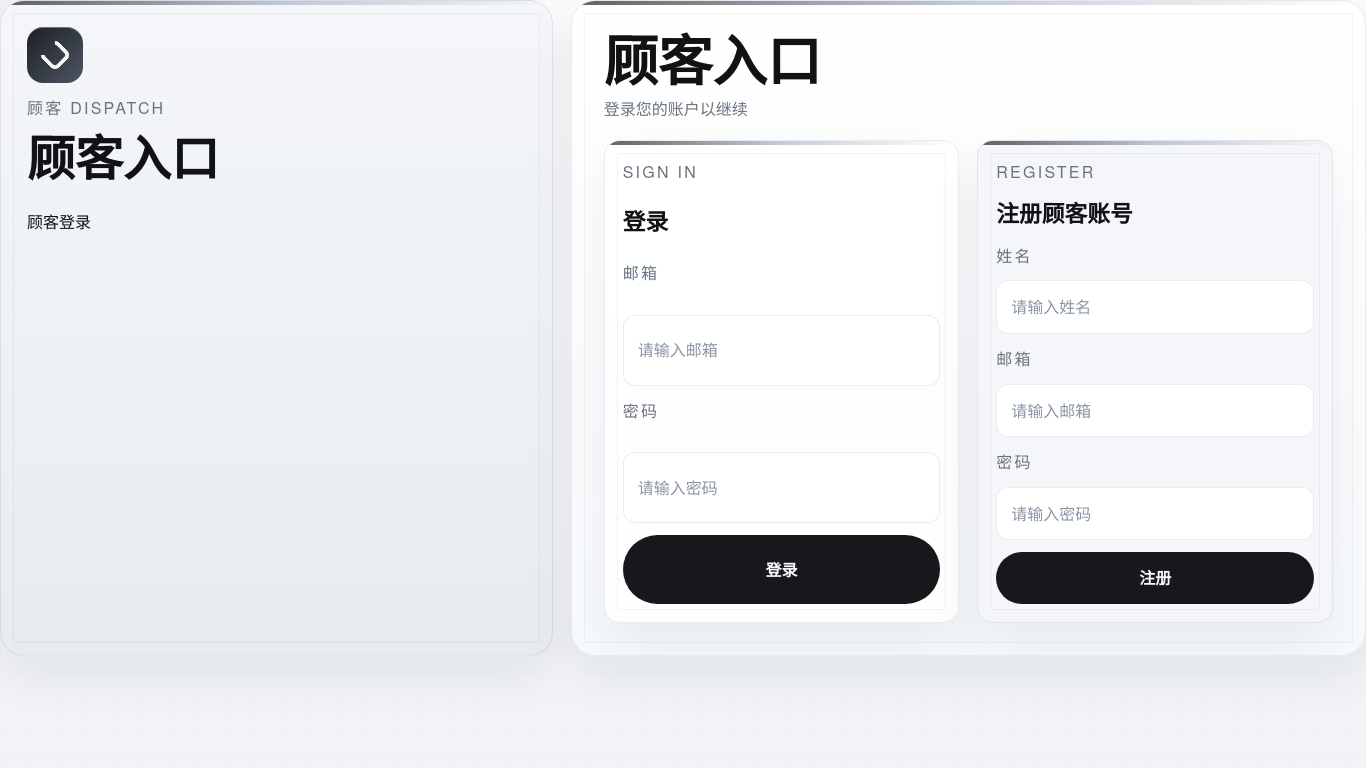
Test: RoleSession › rejects login when the returned role does not match the requested role
The image size is (1366, 768).
Type "admin@example.com" into the field with placeholder "请输入邮箱" below "Sign In" at (782, 350), box [623,315,940,386]
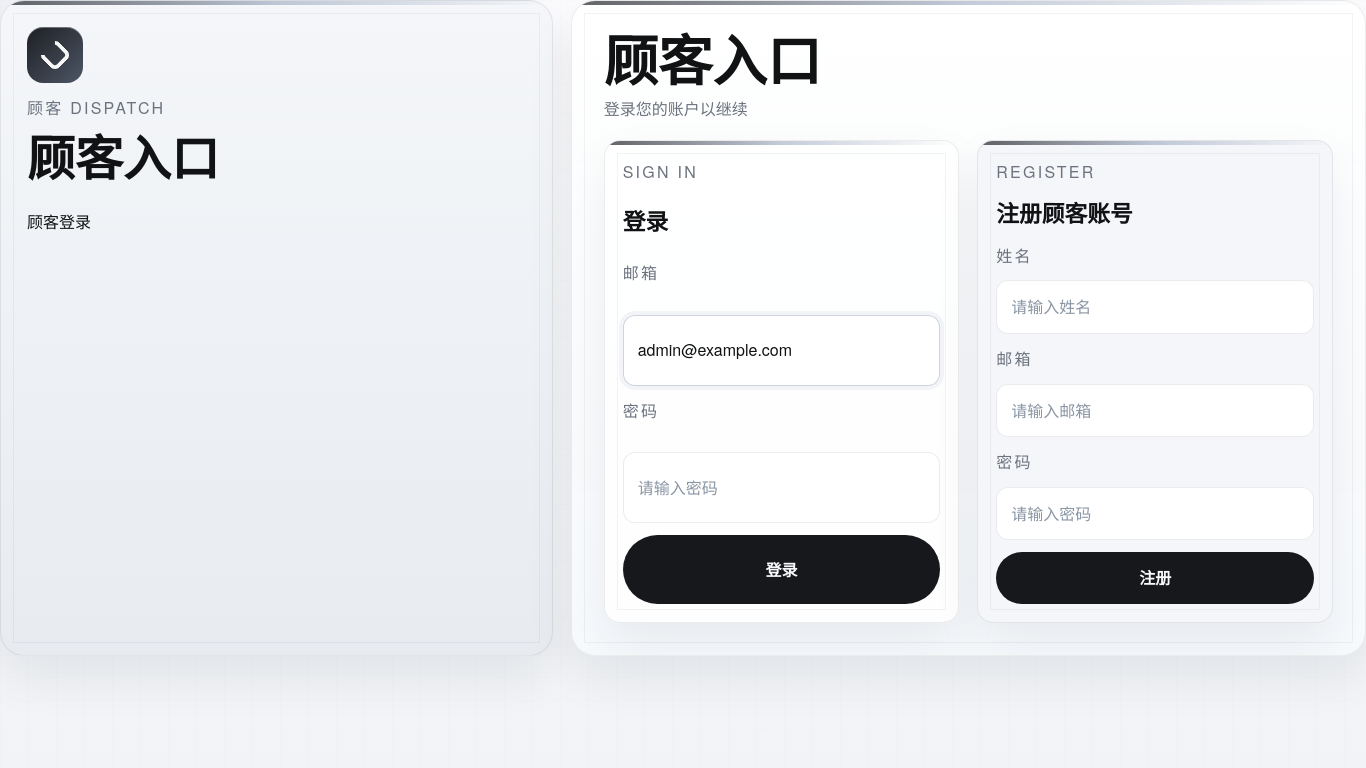
Type "secret123" into the password field with placeholder "请输入密码" below "Sign In" at (782, 488), box [623,452,940,523]
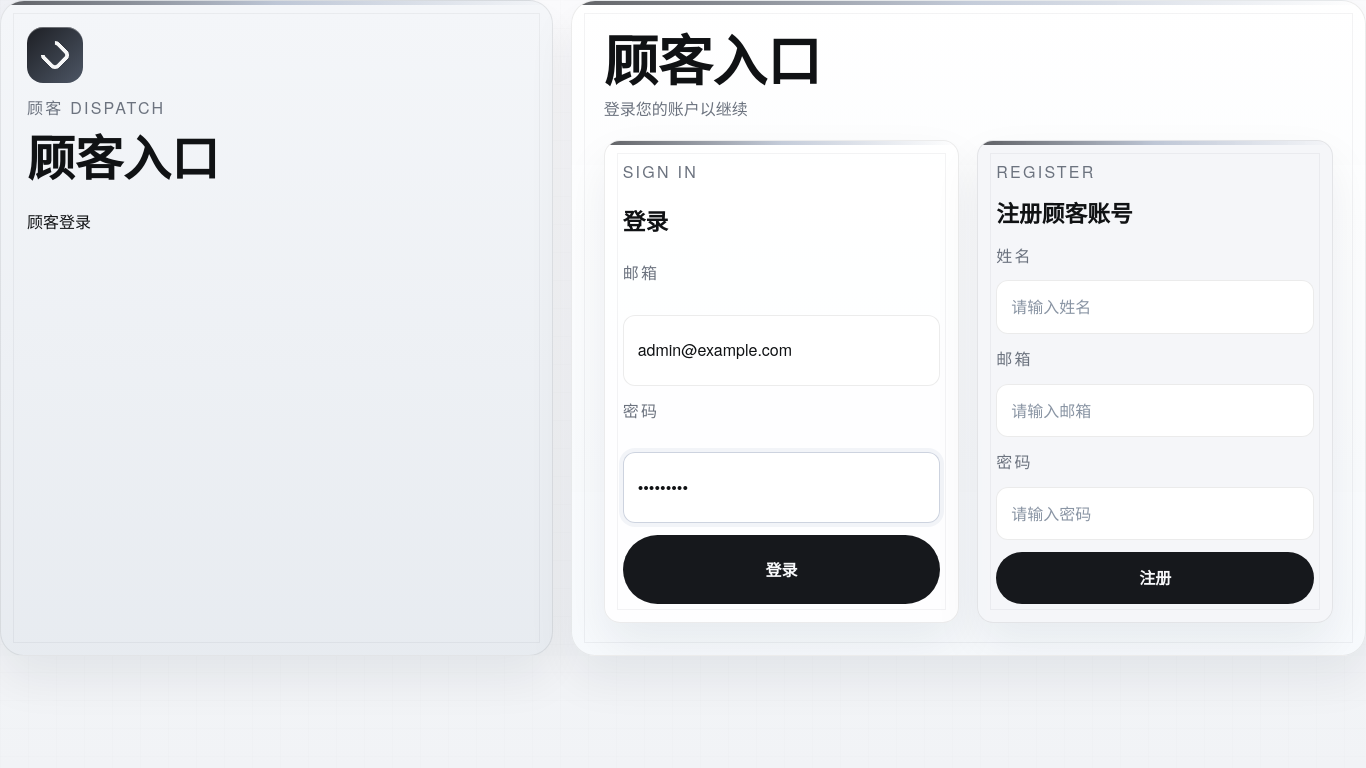
Click the button "登录" at (782, 570), box [623,535,940,604]
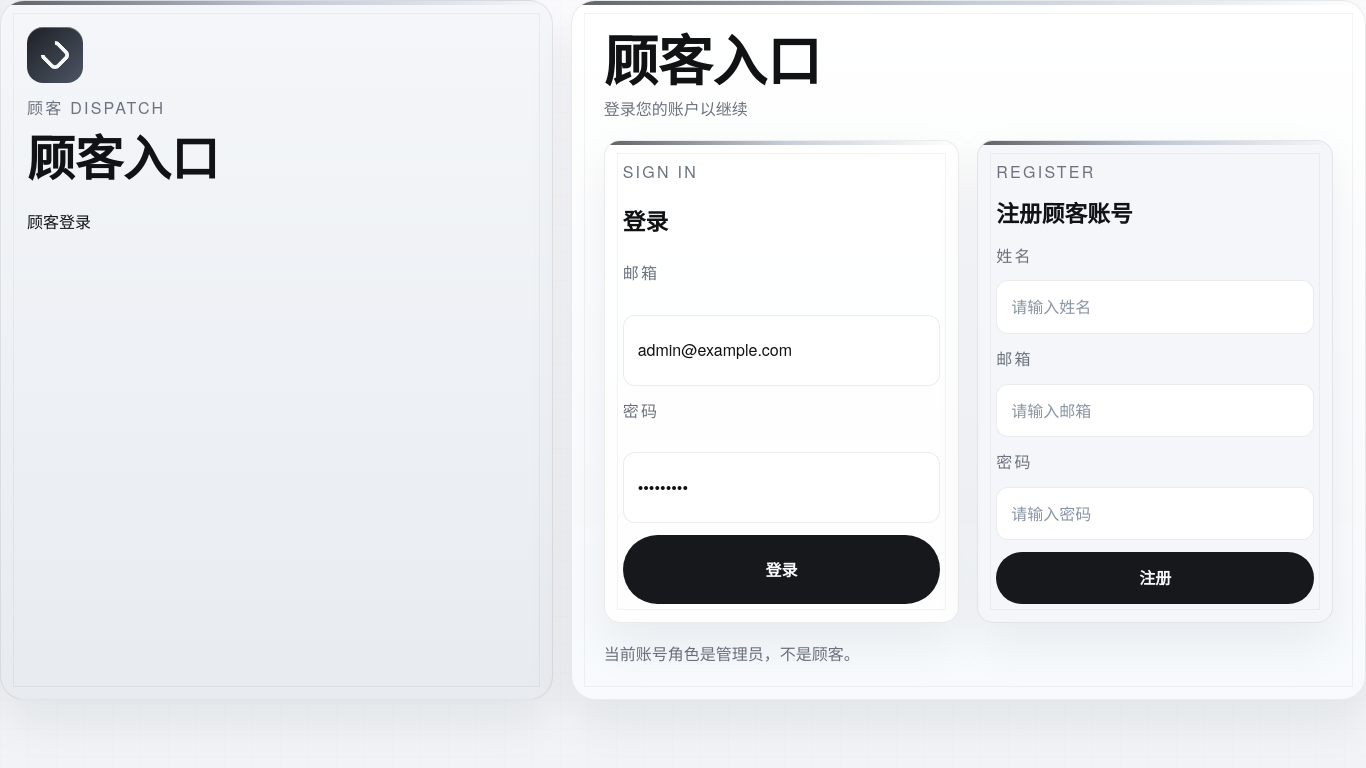
Expected: the text "当前账号角色是管理员，不是顾客。" is shown, [604,642,860,665]
